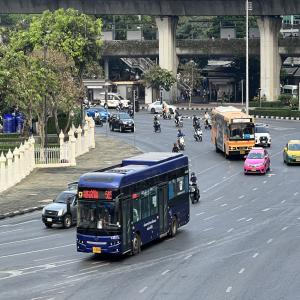BMTA-bus: (206, 106, 255, 161)
Bus Line Number: (104, 188, 113, 200), (238, 119, 245, 122)
Bus Side Number: (110, 235, 120, 240), (247, 150, 250, 153)
Destination Sign: (82, 188, 100, 199), (245, 134, 250, 139)
TSB-Bus: (76, 152, 198, 258)
